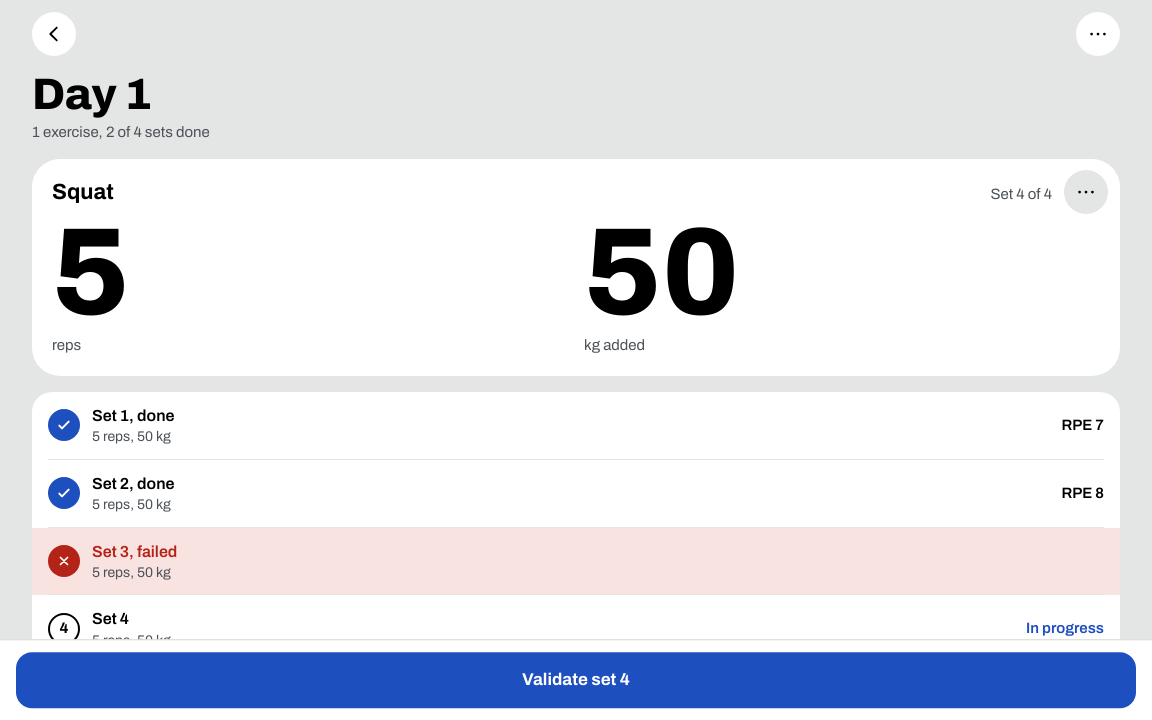
it: SessionView › counts only done sets under the title, and failed ones as logged in the confirm sheet
Expected: the text "1 exercise, 2 of 4 sets done" is shown, [32, 124, 210, 140]
Click the button named "Session options" at (1098,34), box [1076, 12, 1120, 56]
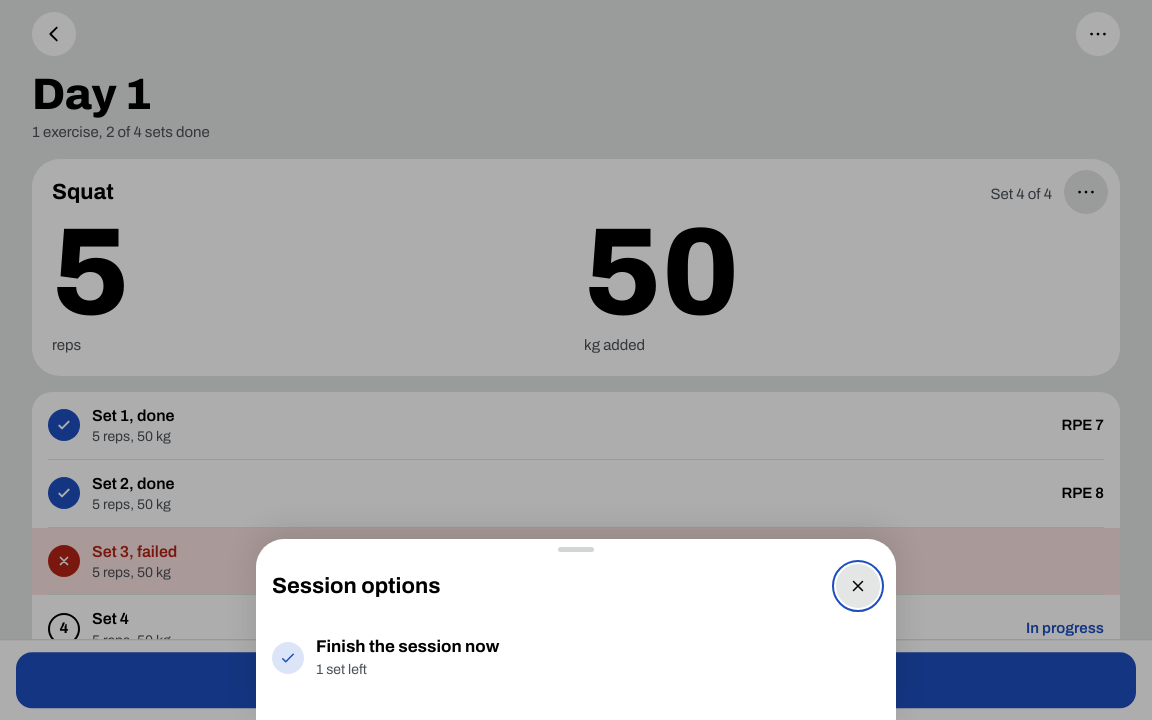
Click the button "Finish the session now 1 set left" at (288,658), box [272, 624, 880, 692]
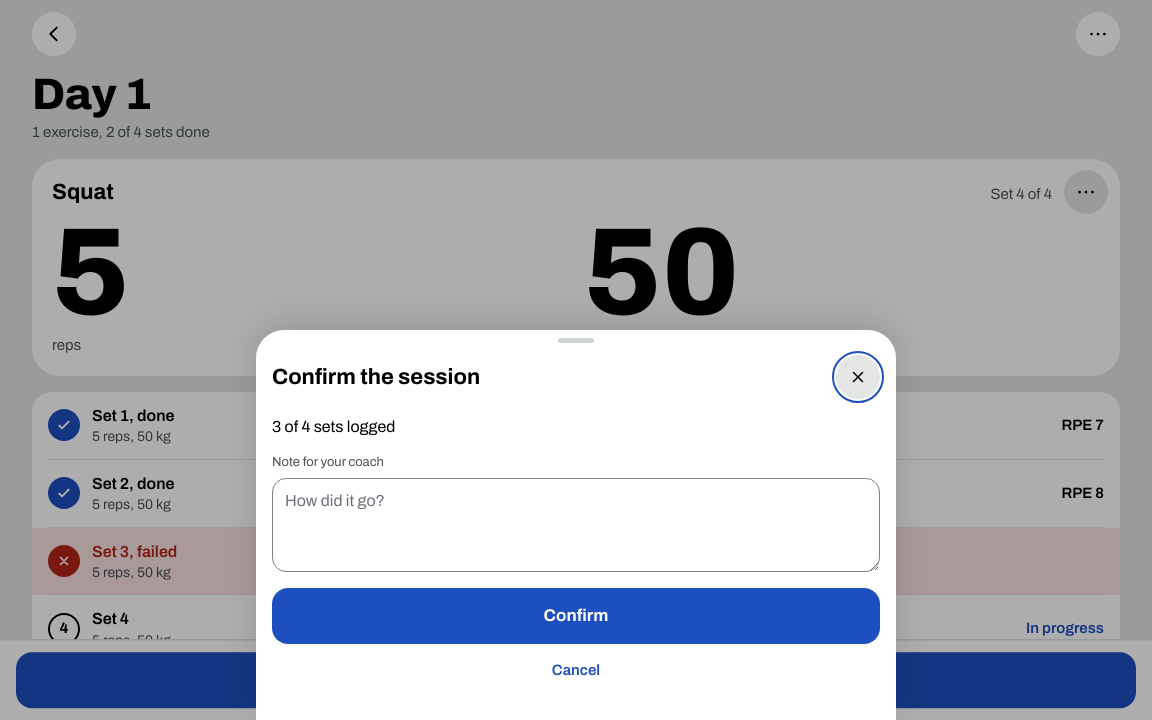
Result: the text "3 of 4 sets logged" is shown at [272, 418, 395, 435]
